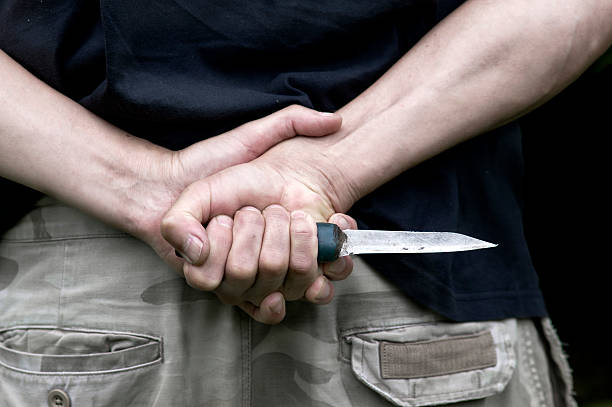knife: (319, 221, 500, 261)
